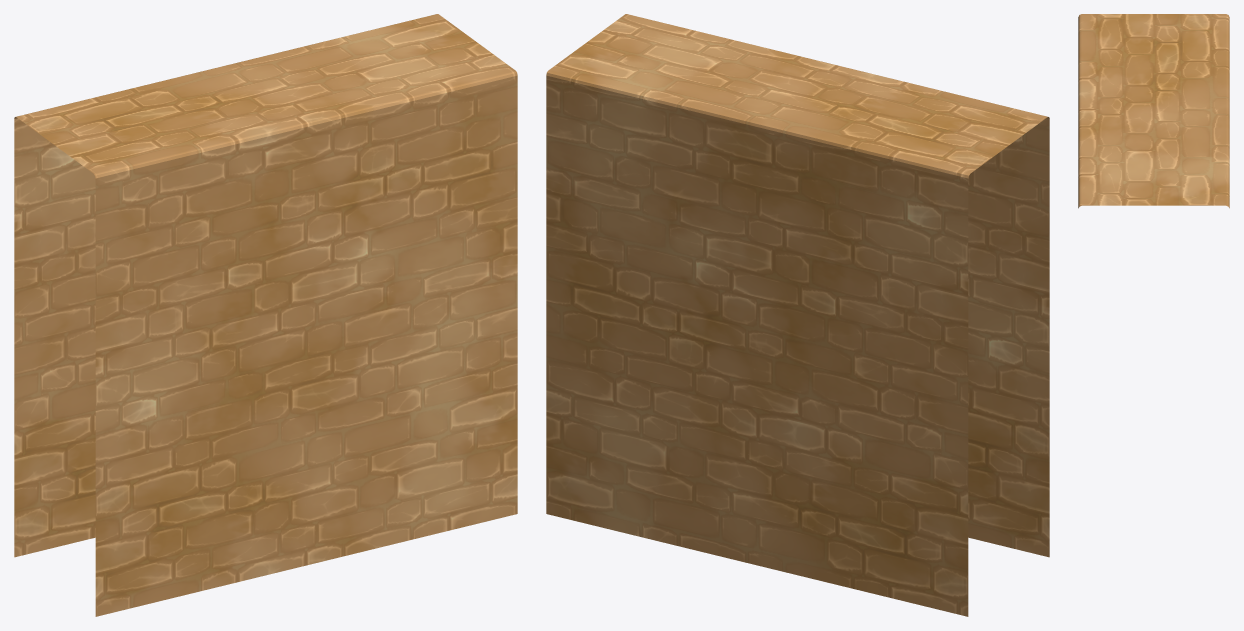
File: SM_Env_Wall.fbx
The picture shows the model from 3 angles, left to right: view 1: azimuth 30°, elevation 25°; view 2: azimuth 150°, elevation 25°; view 3: azimuth 270°, elevation 25°; orthographic projection. The views are drawn at different scales.
Parts seen in each view (by area): view 1: Wall; view 2: Wall; view 3: Wall.
Part boxes in pixels (x1,y1,x2,y2): Wall: [14, 14, 517, 616]; Wall: [546, 14, 1049, 616]; Wall: [1078, 14, 1229, 208].
Size of the model in its own units: 300 by 300 by 100.
1 material, 1 textured.
